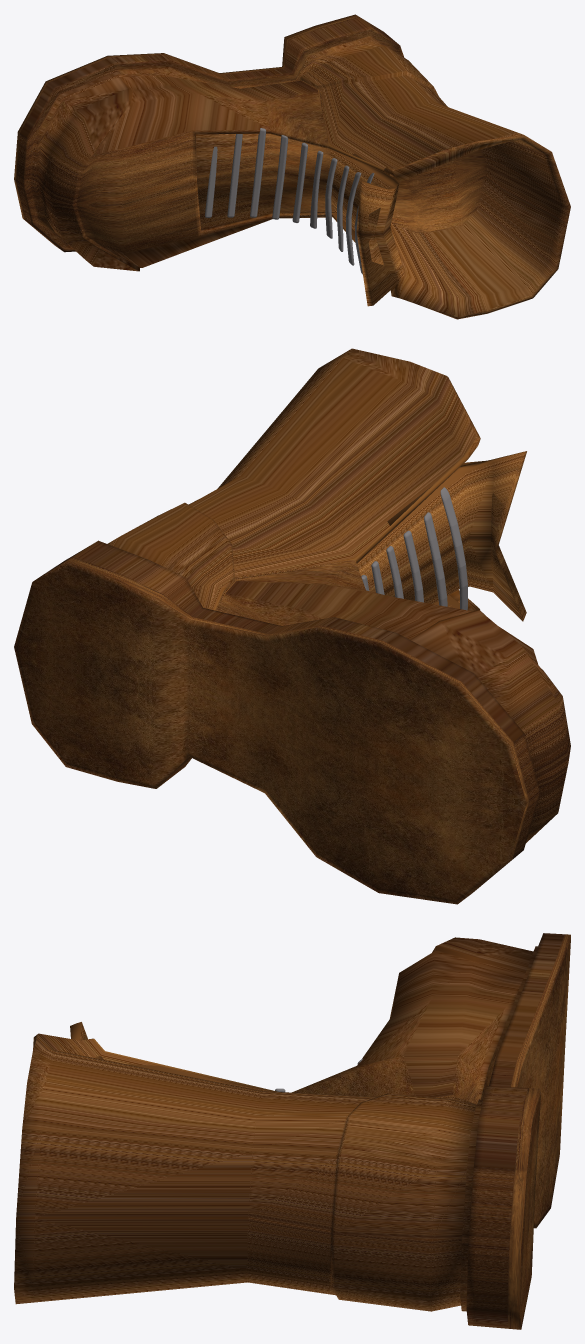
The model's file is boots.fbx.
3 views of the same model, one above another, from view 1: azimuth 30°, elevation 25°; view 2: azimuth 150°, elevation 25°; view 3: azimuth 270°, elevation 25° (orthographic). The views are drawn at different scales.
Visible parts, largest first — view 1: Plane, Cloner_1; view 2: Plane, Cloner_1; view 3: Plane.
Part boxes in pixels (left/top/right/bottom): Plane: left=14, top=14, right=570, bottom=319; Cloner_1: left=205, top=128, right=374, bottom=274; Plane: left=14, top=348, right=570, bottom=904; Cloner_1: left=361, top=487, right=467, bottom=610; Plane: left=14, top=933, right=570, bottom=1329.
Bounding box in the file's own units: 2.22 × 1.12 × 2.1.
Materials: 2 (1 with a texture image).
